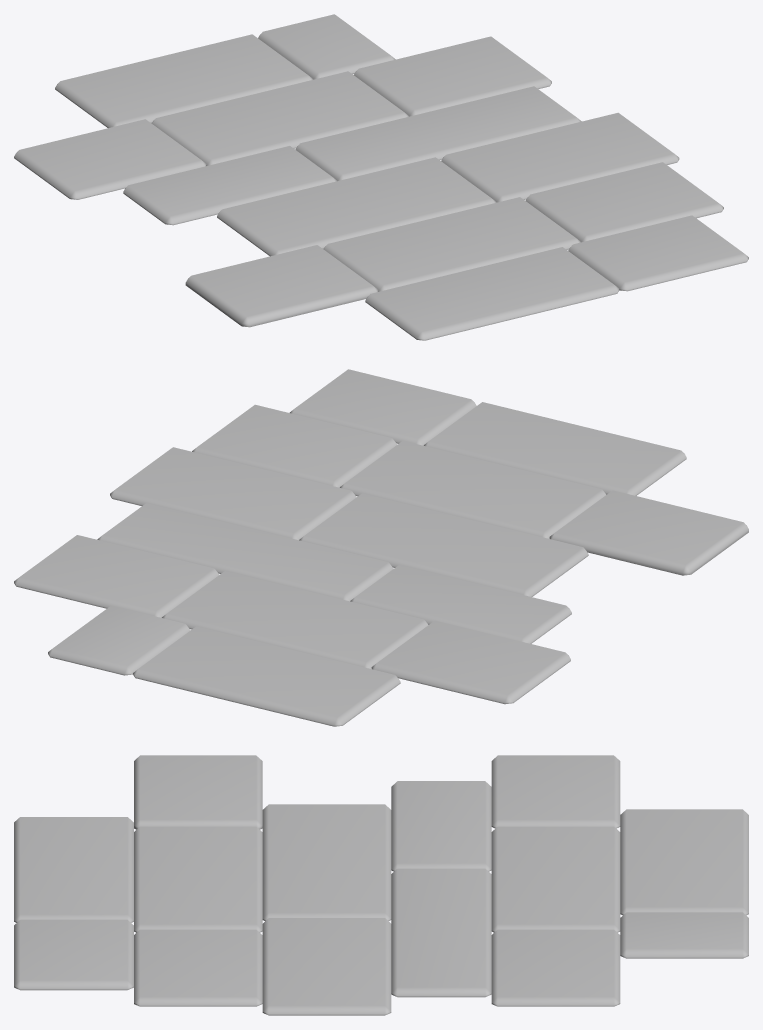
The model's file is Town_4_Path_1.glb.
The picture shows the model from 3 angles, top to bottom: view 1: azimuth 30°, elevation 25°; view 2: azimuth 150°, elevation 25°; view 3: azimuth 270°, elevation 25°; orthographic projection. The views are drawn at different scales.
Parts seen in each view (by area): view 1: Town_4_Path_1; view 2: Town_4_Path_1; view 3: Town_4_Path_1.
Part boxes in pixels (left/top/right/bottom): Town_4_Path_1: left=14, top=14, right=748, bottom=340; Town_4_Path_1: left=14, top=369, right=748, bottom=726; Town_4_Path_1: left=14, top=755, right=748, bottom=1015.
Bounding box in the file's own units: 4 × 0.0656 × 4.9.
1 material, 1 textured.
